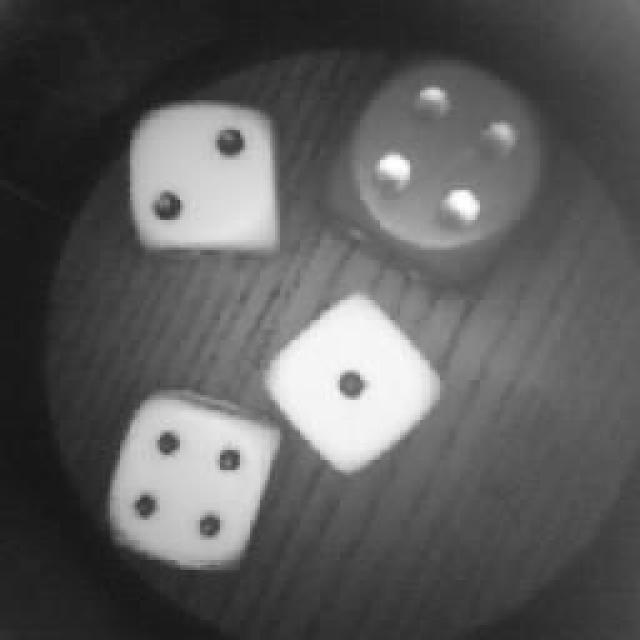dice_1: (260, 290, 450, 472)
dice_2: (118, 95, 292, 270)
dice_4: (325, 42, 567, 298), (98, 385, 290, 577)
